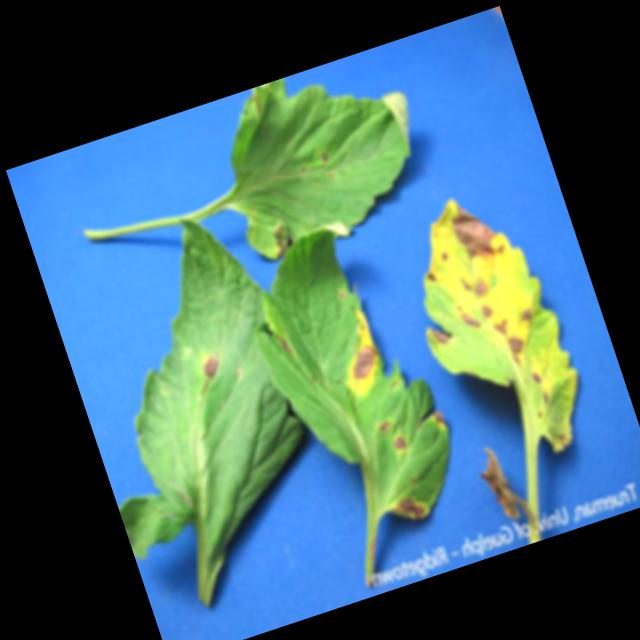Early_blight: (327, 309, 391, 401), (442, 187, 514, 268), (473, 437, 532, 524), (391, 489, 431, 524), (457, 265, 494, 301), (449, 299, 483, 335), (503, 331, 531, 367), (195, 349, 224, 383), (429, 322, 455, 348), (273, 329, 294, 359), (487, 315, 512, 339), (430, 407, 452, 432), (389, 431, 411, 454), (518, 303, 539, 324), (479, 300, 498, 321), (316, 148, 335, 167), (527, 366, 545, 385), (375, 417, 392, 436), (436, 247, 451, 263), (426, 268, 439, 285)
